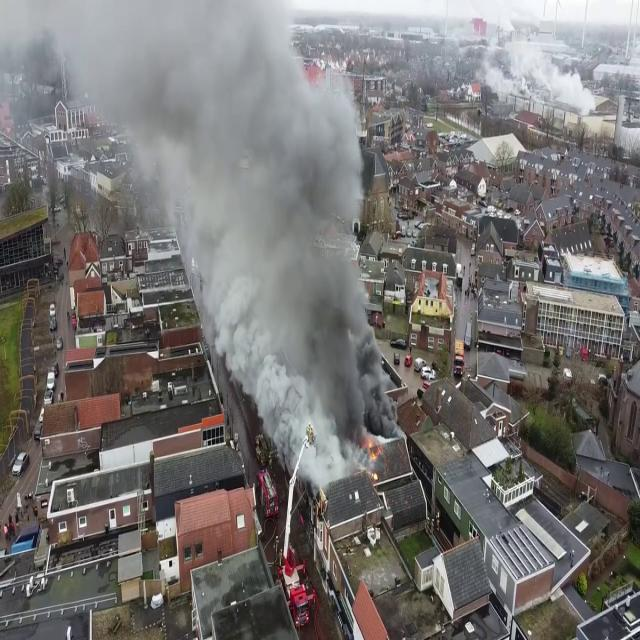Smoke: (112, 1, 396, 482)
